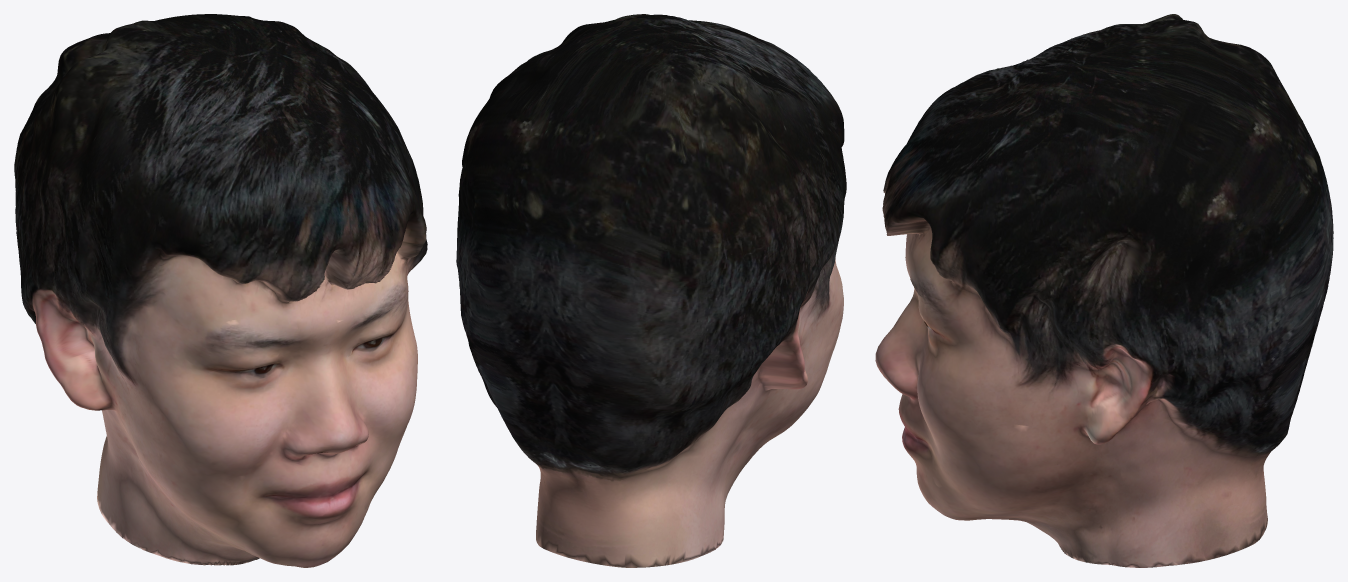
Rendered from MyHeadLowPoly.fbx.
3 views of the same model, side by side, from view 1: azimuth 30°, elevation 25°; view 2: azimuth 150°, elevation 25°; view 3: azimuth 270°, elevation 25° (orthographic). The views are drawn at different scales.
Visible parts, largest first — view 1: headLowPoly; view 2: headLowPoly; view 3: headLowPoly.
Boxes of the visible parts, x1=… form: headLowPoly: x1=14, y1=14, x2=427, y2=567; headLowPoly: x1=456, y1=14, x2=846, y2=567; headLowPoly: x1=875, y1=14, x2=1333, y2=567.
Bounding box in the file's own units: 19023 × 26894 × 22605.
